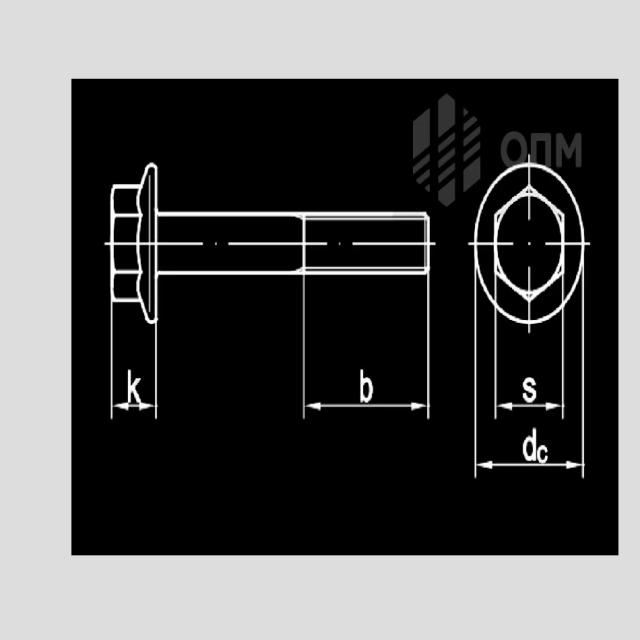marking_line: (305, 400, 426, 415), (476, 461, 582, 475), (498, 401, 561, 416), (110, 398, 154, 417)
